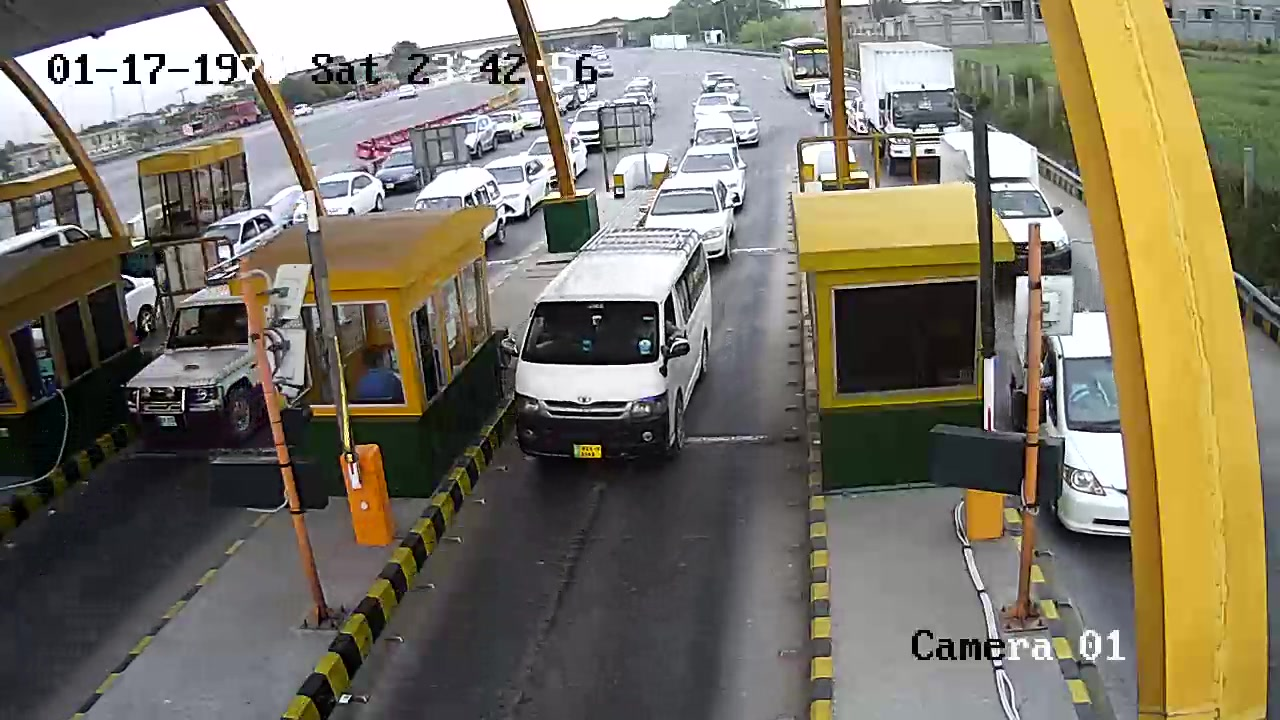F3: (508, 225, 719, 480)
